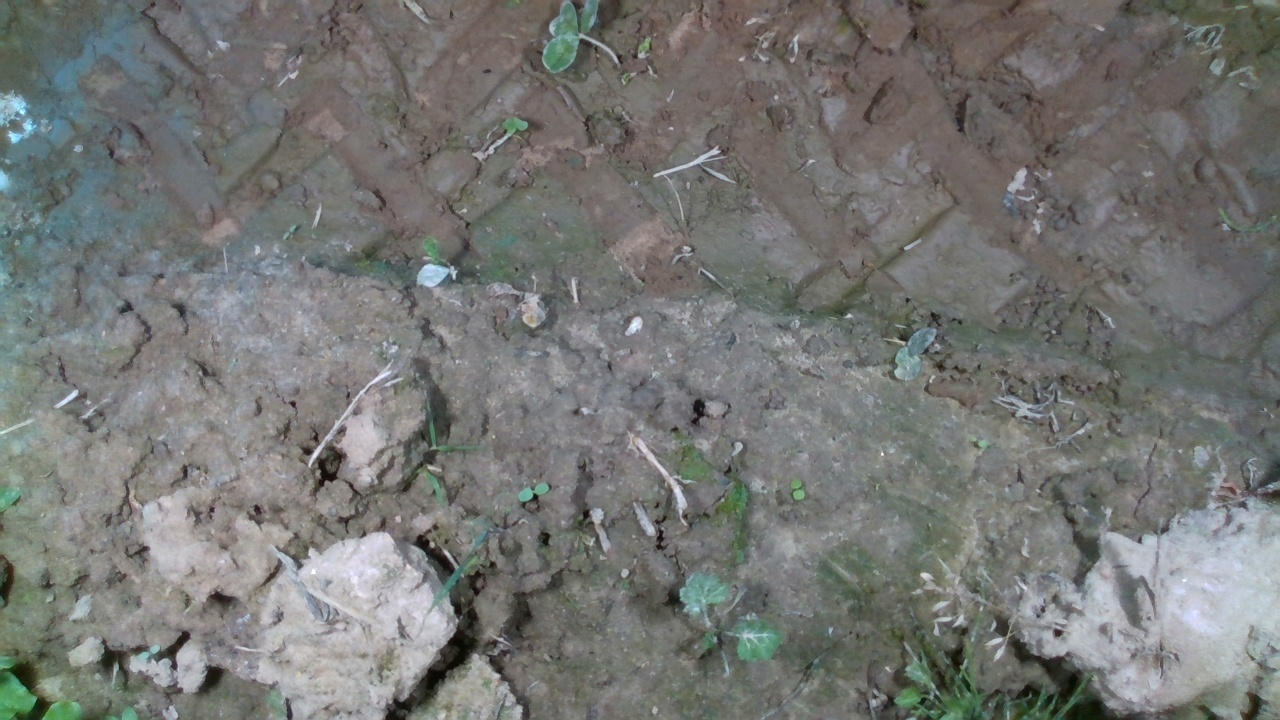weed: (790, 478, 805, 503)
